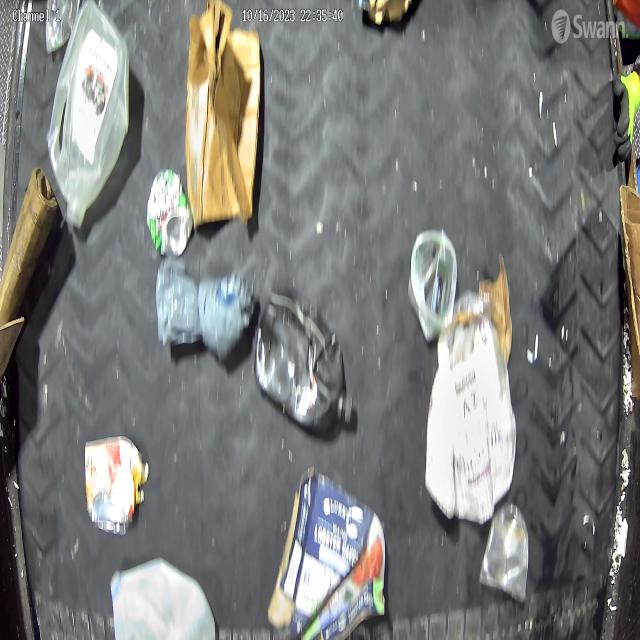can: (147, 168, 193, 260)
milk_jug: (108, 556, 216, 640)
non_white_jug: (48, 3, 133, 230), (253, 287, 354, 437)
